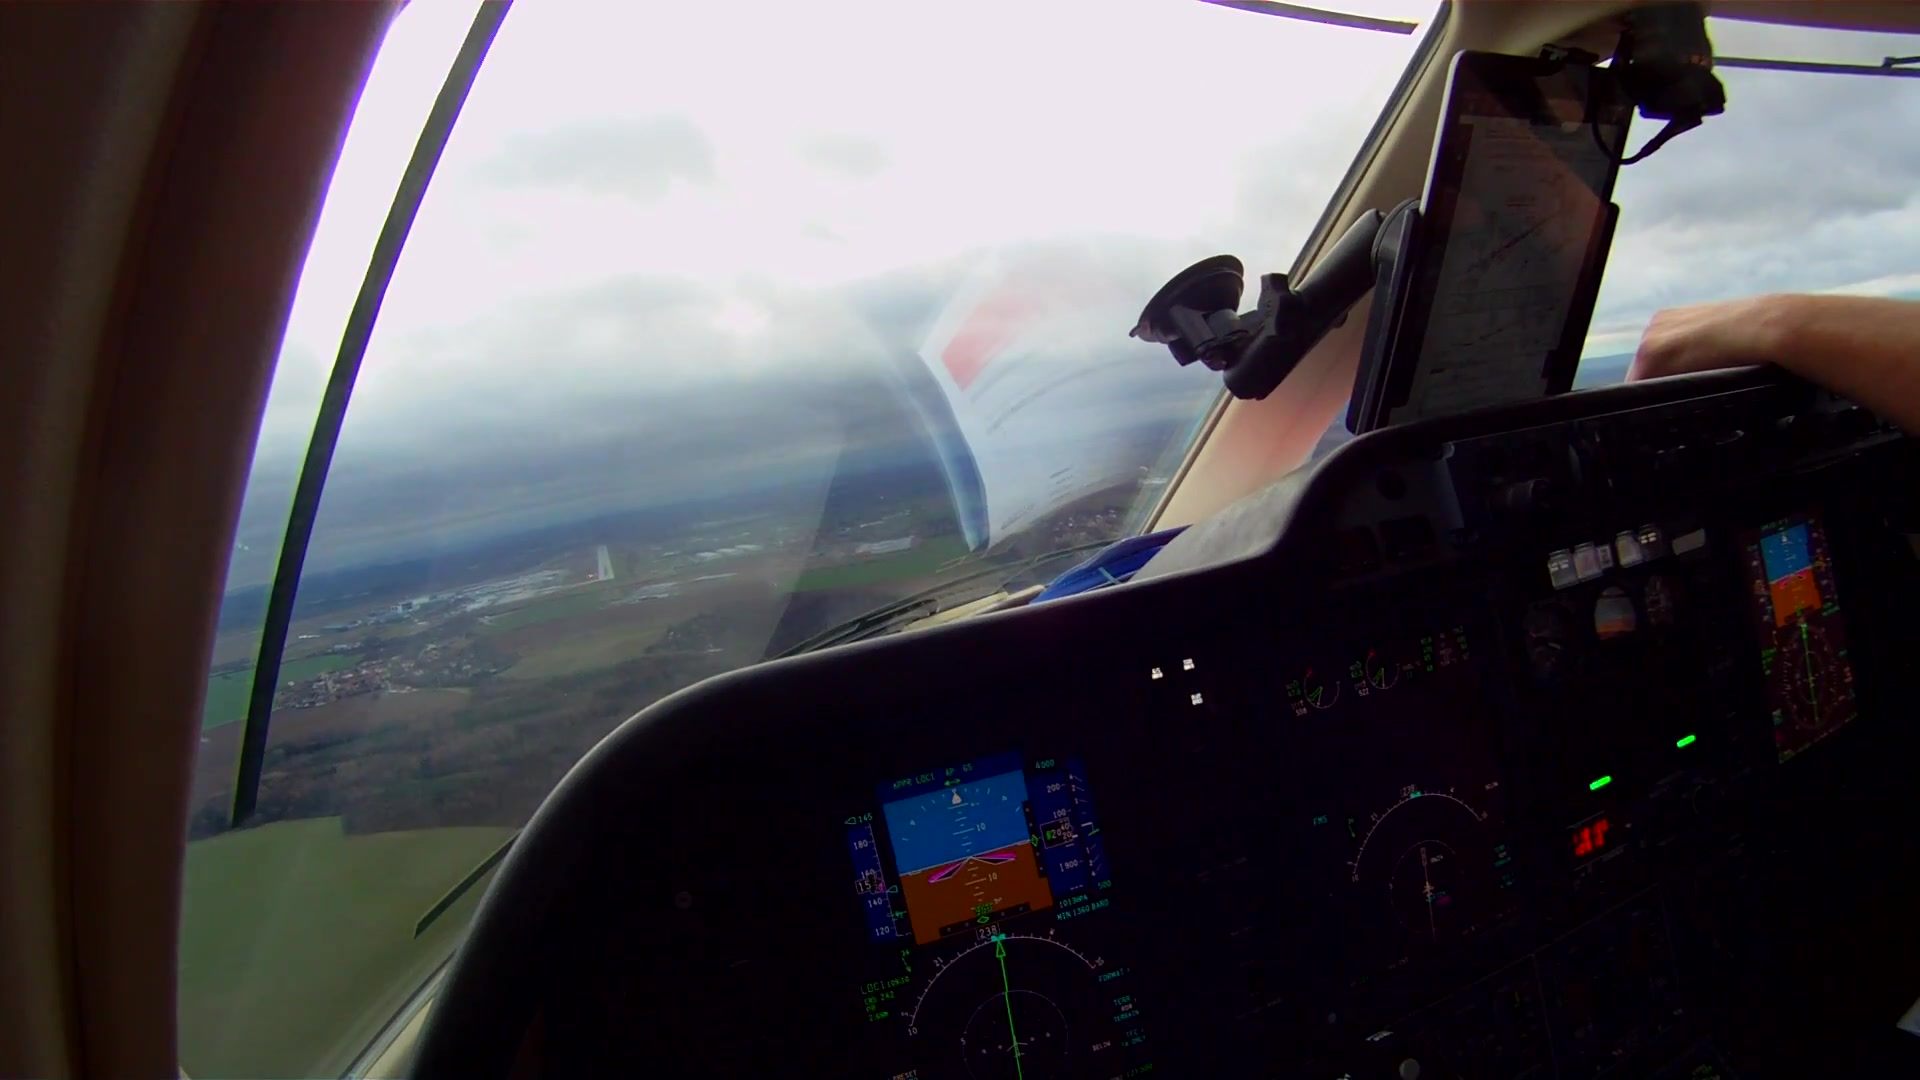runway: (593, 545, 615, 584)
